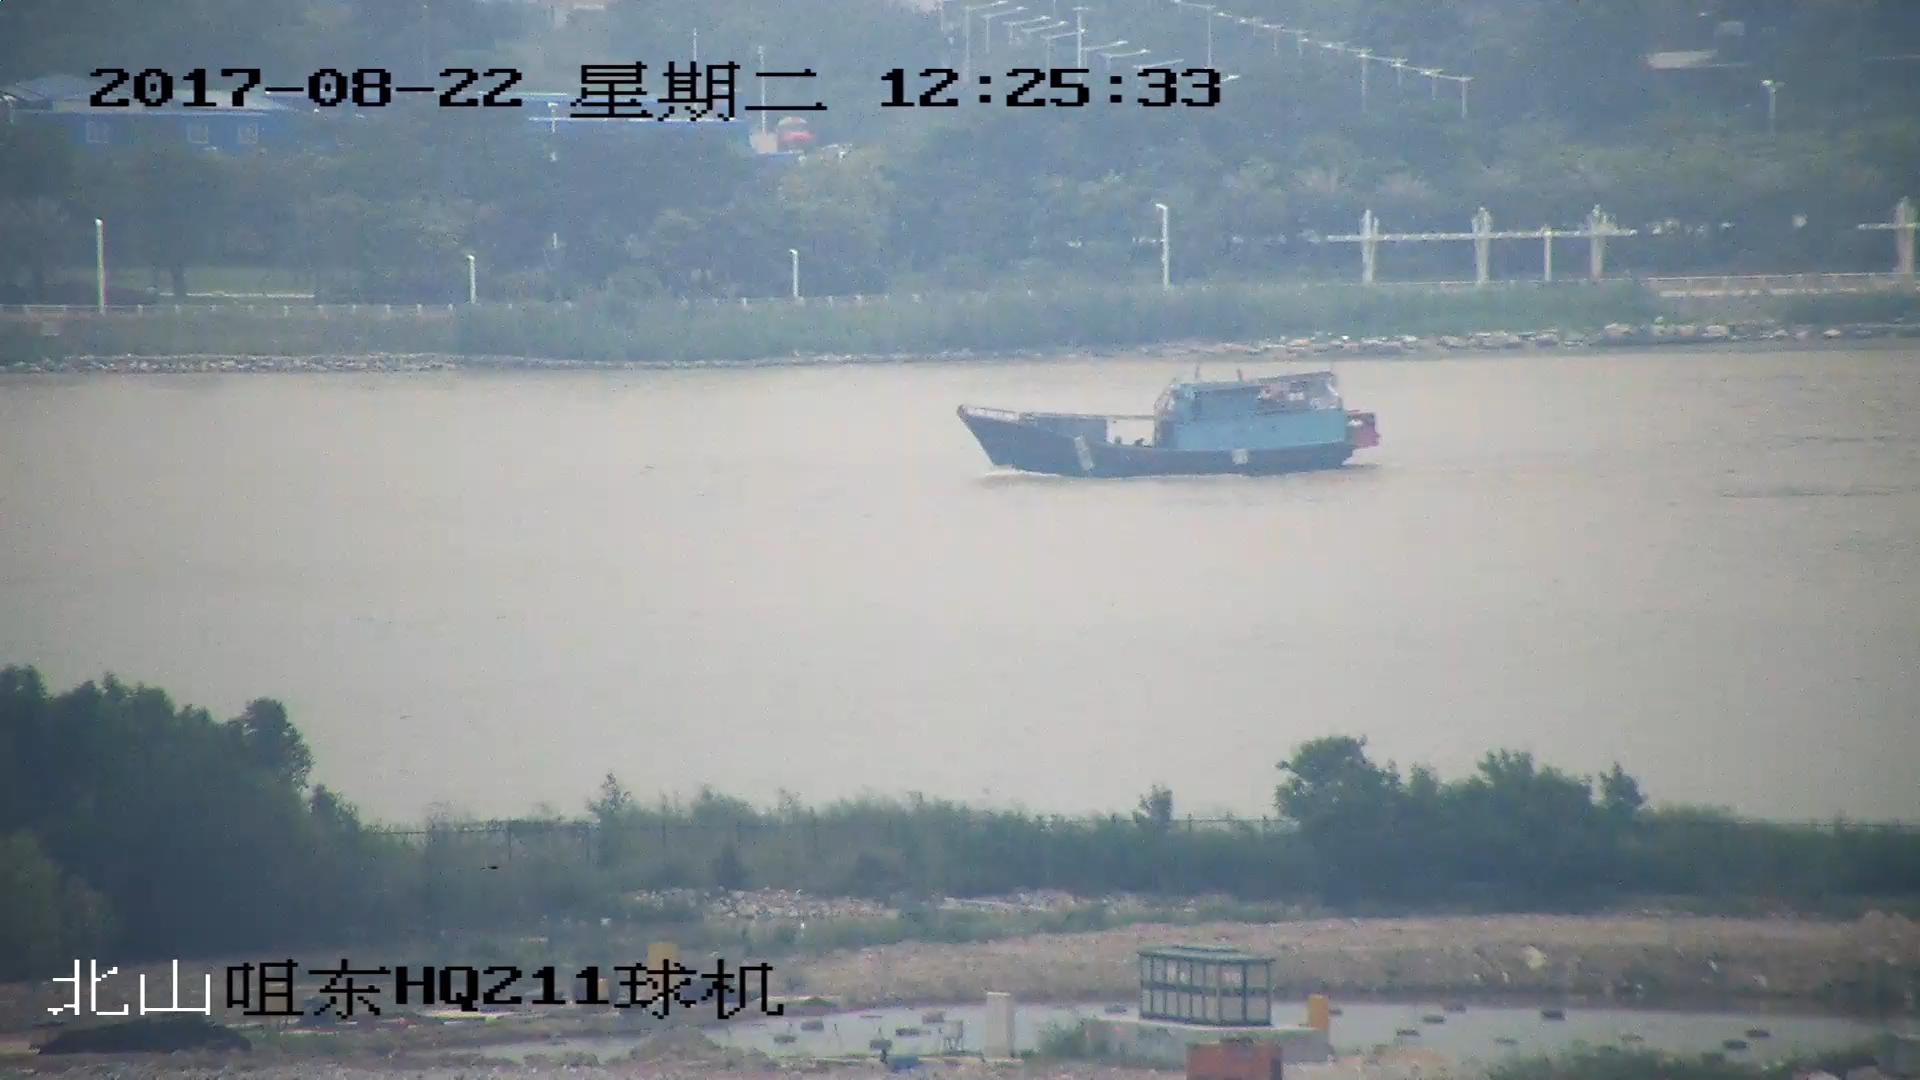fishing boat: (963, 367, 1375, 474)
